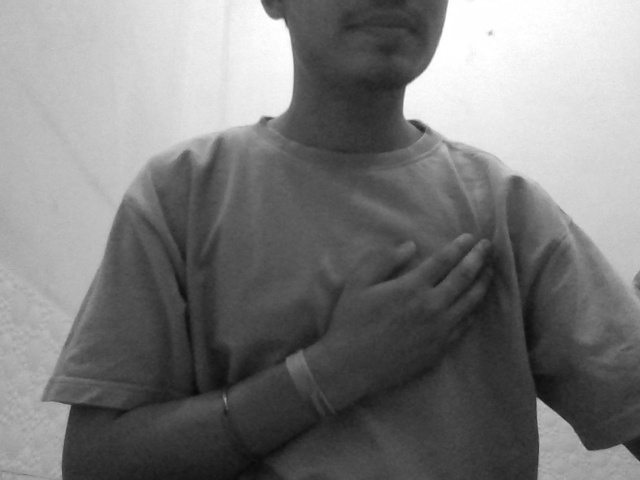Sorry: (281, 211, 540, 418)
